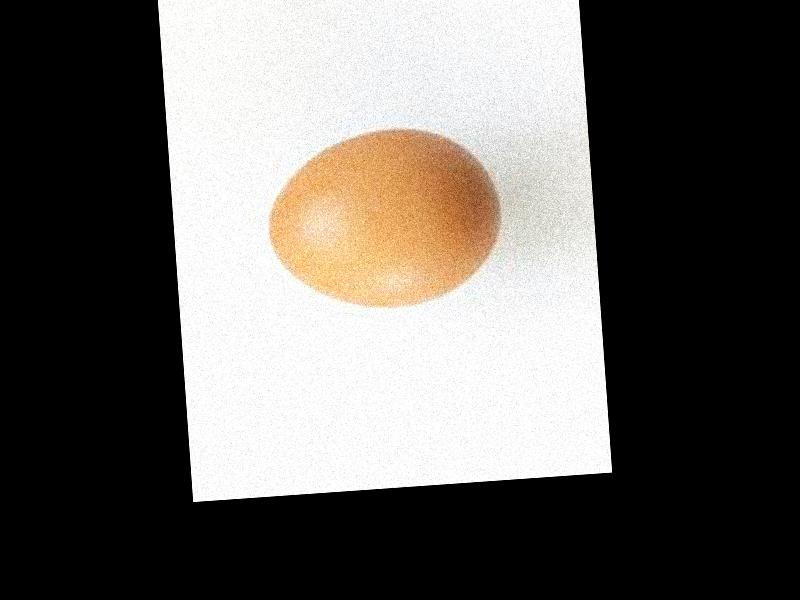Eggs: (258, 120, 509, 314)
